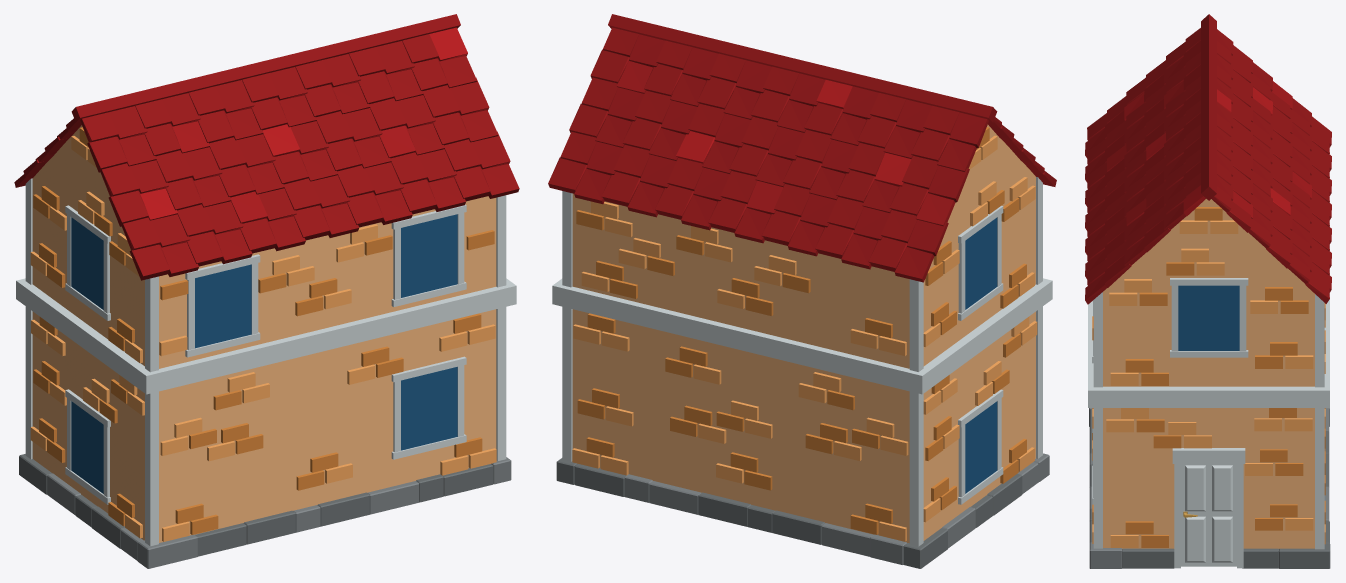
Rendered from SM_House_6.FBX.
The picture shows the model from 3 angles, left to right: view 1: azimuth 30°, elevation 25°; view 2: azimuth 150°, elevation 25°; view 3: azimuth 270°, elevation 25°; orthographic projection. The views are drawn at different scales.
Visible parts, largest first — view 1: SM_House_6; view 2: SM_House_6; view 3: SM_House_6.
Part boxes in pixels (left/top/right/bottom): SM_House_6: left=14, top=14, right=519, bottom=568; SM_House_6: left=548, top=14, right=1056, bottom=568; SM_House_6: left=1085, top=14, right=1331, bottom=568.
Size of what is drawn, in the model's own units: 757 by 457 by 791.
